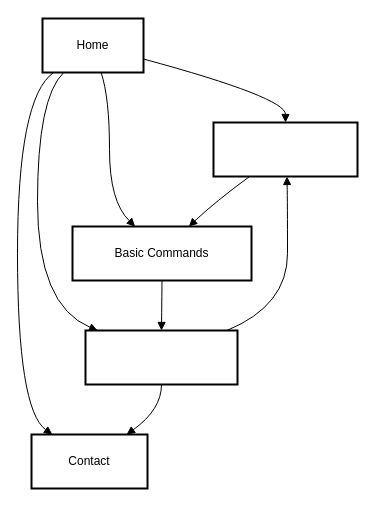
Image size: 376x506. Some labels were removed from this diagram. Here are the shapes that lost their labels. From the top down, the centre of each, then its label:
At point 285,149: "What Is SQL".
At point 161,357: "Practice Tool".
